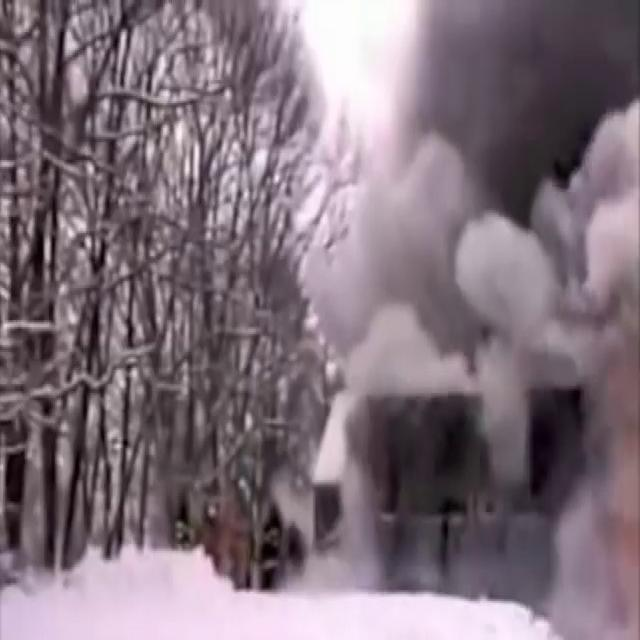Smoke: (283, 0, 640, 612)
